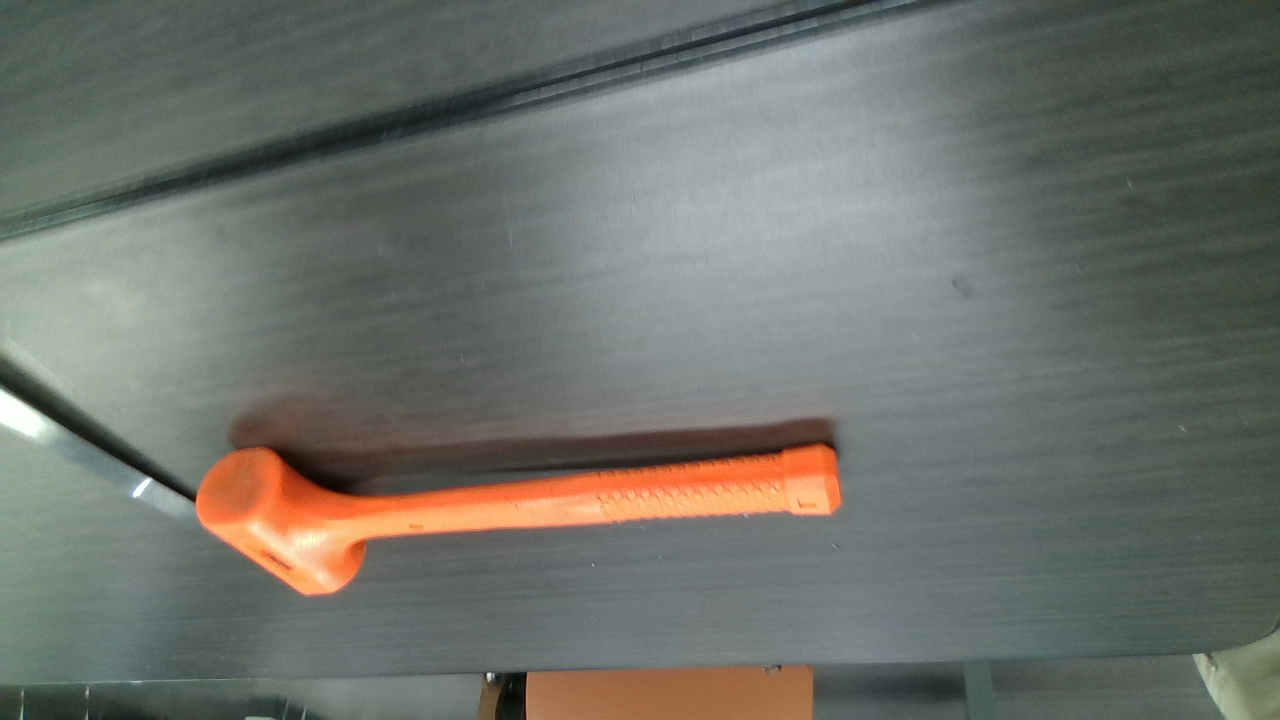Orange Hammer: (203, 441, 841, 594)
